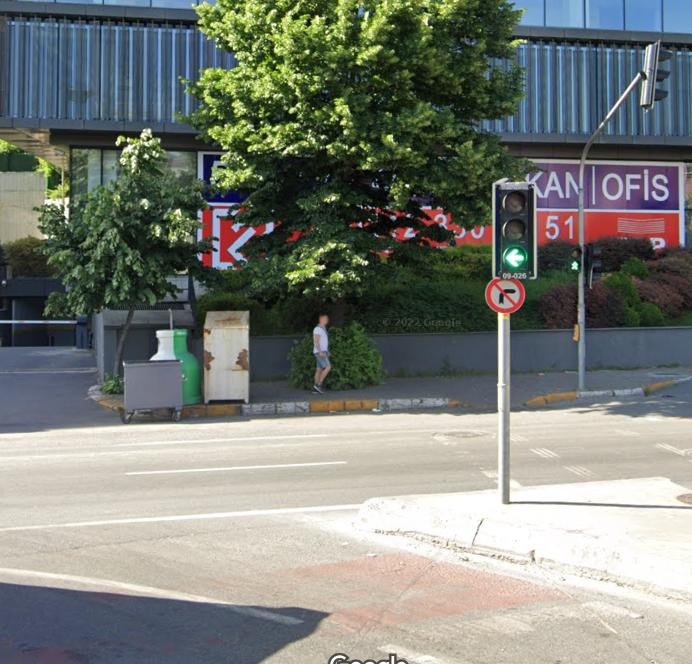greenlight: (496, 183, 533, 272)
rightturnsareforbidden: (484, 277, 528, 315)
